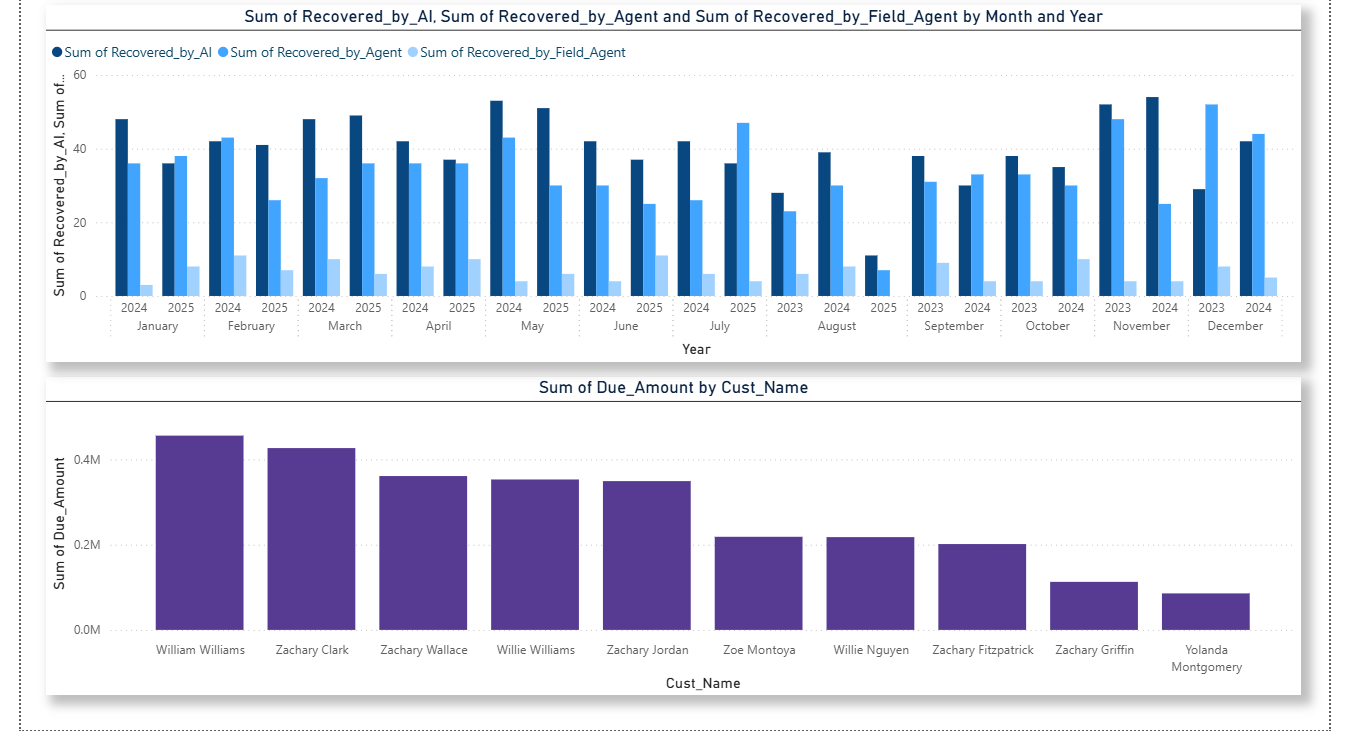

This screenshot's page, from the dashboard's own definition file:
{"tool":"powerbi","page":{"name":"Page 4","canvas":[1280,720],"ordinal":4},"visuals":[{"type":"clusteredColumnChart","fields":{"Category":["Bank_Loan_Recovery_Data_2000_AI_Enhanced.Due_Date.Variation.Date Hierarchy.Month","Bank_Loan_Recovery_Data_2000_AI_Enhanced.Due_Date.Variation.Date Hierarchy.Year"],"Y":["Sum(Bank_Loan_Recovery_Data_2000_AI_Enhanced.Recovered_by_AI)","Sum(Bank_Loan_Recovery_Data_2000_AI_Enhanced.Recovered_by_Agent)","Sum(Bank_Loan_Recovery_Data_2000_AI_Enhanced.Recovered_by_Field_Agent)"]},"box":[24.7,11,1228.1,348.5],"z":0},{"type":"columnChart","fields":{"Category":["Bank_Loan_Recovery_Data_2000_AI_Enhanced.Cust_Name"],"Y":["Sum(Bank_Loan_Recovery_Data_2000_AI_Enhanced.Due_Amount)"]},"box":[24.7,374.6,1228.1,311.5],"z":1000}]}

Visuals, with their boxes on the page's 1280x720 design canvas (x1, y1, x2, y2). These are canvas units, not pixel positions in the 1348x731 screenshot, which may show the page scaled, cropped or inside an application window:
clusteredColumnChart - Bank_Loan_Recovery_Data_2000_AI_Enhanced.Due_Date.Variation.Date Hierarchy.Month x Bank_Loan_Recovery_Data_2000_AI_Enhanced.Due_Date.Variation.Date Hierarchy.Year: bbox(25, 11, 1253, 360)
columnChart - Bank_Loan_Recovery_Data_2000_AI_Enhanced.Cust_Name x Sum(Bank_Loan_Recovery_Data_2000_AI_Enhanced.Due_Amount): bbox(25, 375, 1253, 686)
